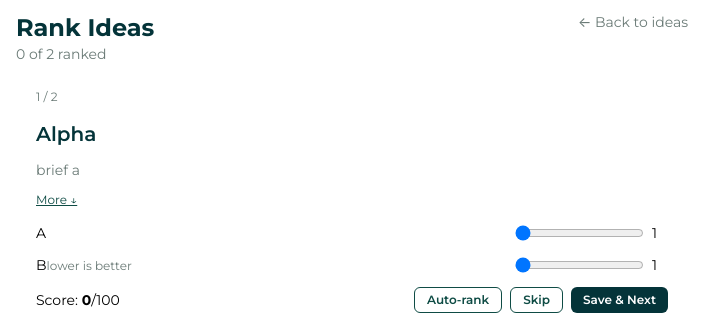
Test: Rank › save and next saves sliders via setRanking and advances; finishes
The image size is (705, 330).
Expected: the heading "Alpha" is shown, [36,122,96,146]
Set the slider labelled "A" to "4": (608, 233) [515,225,644,241]
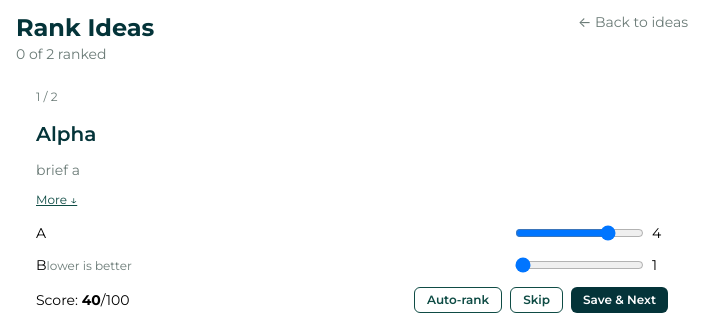
Click the button "Save & Next": (620, 300) [571,287,668,313]
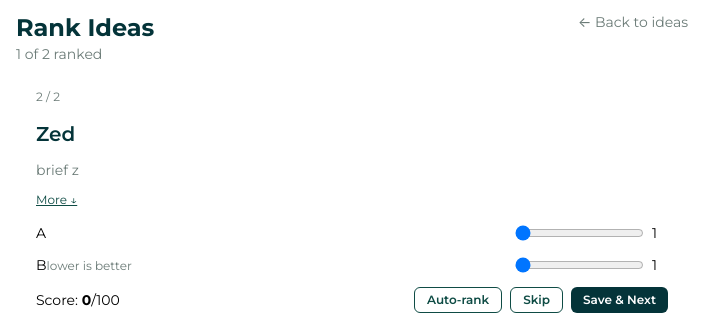
Now the heading "Zed" is shown, box [36,122,75,146]
Click the button "Skip": (537, 300) [510,287,563,313]
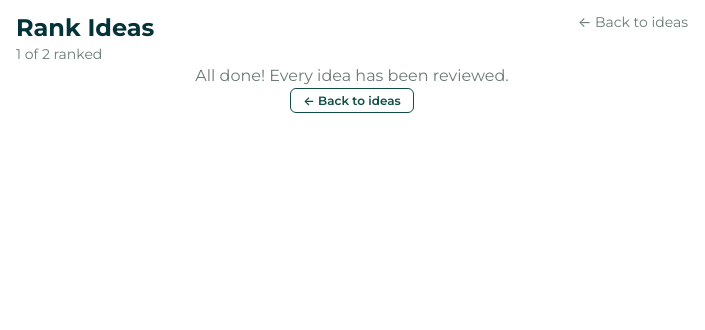
Now the text "All done! Every idea has been reviewed." is shown, box [195,66,509,85]
